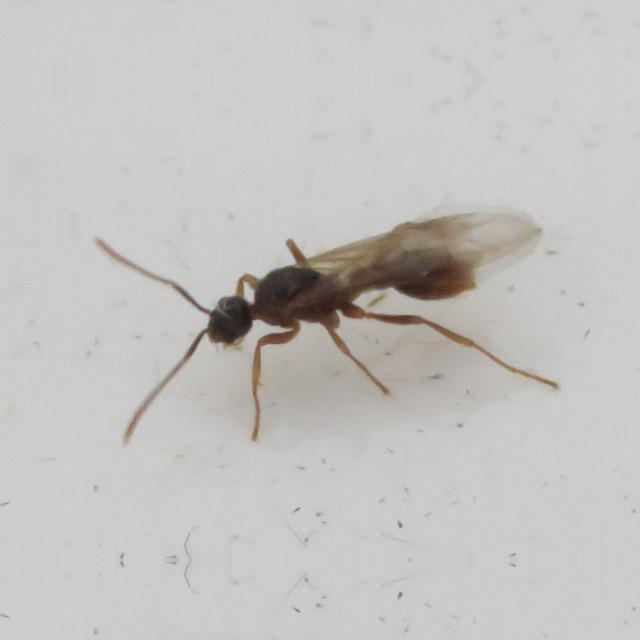Myrmica: (92, 172, 554, 440)
